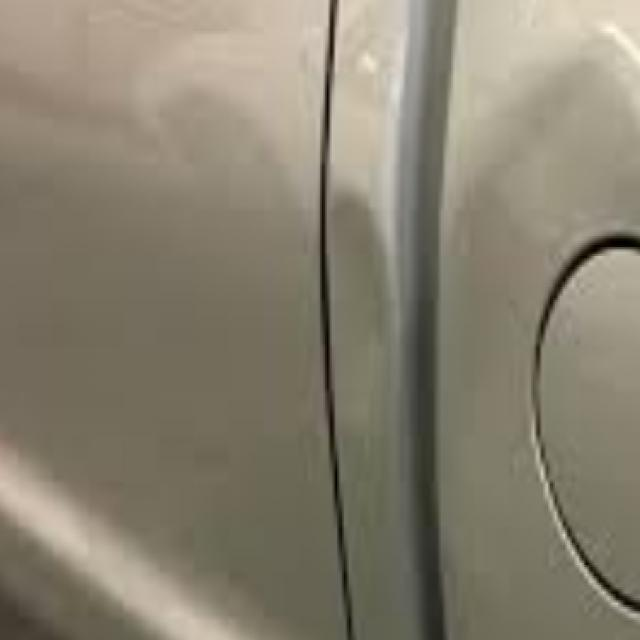dents: (448, 7, 631, 256), (324, 178, 391, 434)
